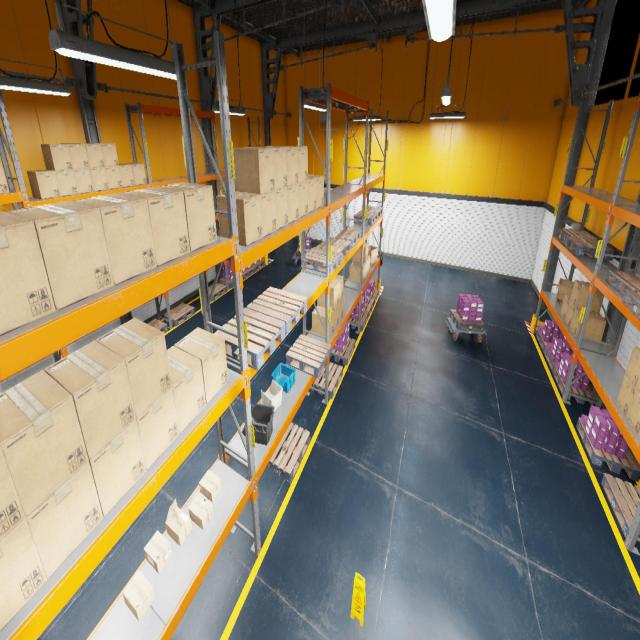box: (0, 370, 89, 517), (6, 201, 114, 310), (44, 340, 136, 459), (26, 461, 103, 578), (69, 193, 157, 285), (96, 318, 172, 417), (0, 212, 56, 336), (117, 187, 190, 266), (89, 418, 146, 516), (0, 517, 47, 631), (154, 182, 217, 251), (174, 327, 228, 404), (136, 386, 180, 470), (167, 345, 206, 434), (216, 191, 262, 246), (0, 444, 26, 540), (233, 147, 275, 194), (122, 570, 154, 621), (165, 498, 192, 546), (258, 147, 288, 190), (144, 530, 172, 573), (570, 308, 606, 341), (570, 280, 604, 312), (272, 146, 298, 186), (27, 170, 61, 199), (281, 146, 308, 182), (188, 493, 214, 530), (565, 301, 597, 328), (41, 144, 73, 171), (616, 375, 636, 417), (60, 143, 90, 169), (198, 470, 222, 502), (312, 306, 334, 338), (261, 191, 276, 237), (624, 346, 640, 389), (626, 390, 640, 436), (318, 280, 339, 310), (55, 170, 78, 196), (308, 174, 324, 209), (275, 187, 288, 230), (73, 168, 94, 193), (85, 143, 105, 168), (555, 279, 574, 304), (125, 163, 146, 185), (90, 167, 109, 191), (101, 144, 119, 166), (288, 184, 298, 223), (298, 181, 308, 218), (106, 166, 122, 189), (349, 262, 365, 284), (119, 164, 135, 186), (353, 242, 368, 262), (308, 177, 316, 213), (0, 162, 9, 194), (560, 294, 571, 320), (333, 274, 343, 302), (353, 260, 368, 278), (368, 246, 378, 266), (338, 296, 343, 322), (334, 303, 338, 331), (636, 378, 640, 394), (367, 256, 370, 274), (638, 434, 640, 438)
pallets: (214, 308, 285, 370), (576, 417, 640, 481), (247, 287, 307, 335), (601, 472, 640, 543), (266, 422, 310, 483), (286, 334, 331, 378), (553, 366, 598, 406), (565, 236, 615, 260), (310, 362, 342, 399), (301, 247, 342, 274), (605, 270, 640, 296), (450, 309, 484, 332), (163, 303, 195, 326), (316, 237, 351, 258), (555, 227, 597, 244), (330, 338, 356, 365), (622, 289, 640, 320), (335, 228, 360, 248), (348, 310, 368, 331), (353, 210, 378, 226), (544, 346, 559, 372), (536, 329, 553, 351), (208, 282, 227, 300), (220, 275, 243, 288), (147, 319, 168, 333), (361, 206, 382, 218), (364, 298, 374, 317), (369, 288, 379, 305), (242, 266, 255, 279), (251, 260, 265, 272), (296, 247, 312, 257), (214, 208, 217, 215)
